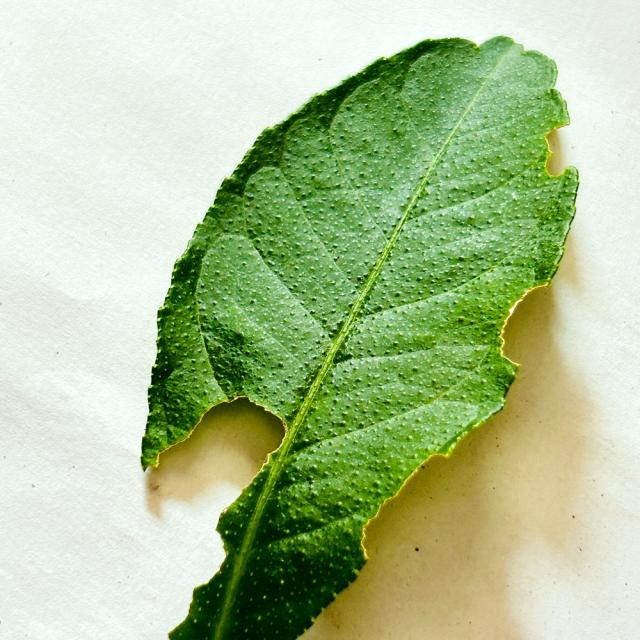Deficiency Leaf: (145, 404, 285, 639), (362, 455, 449, 559), (503, 287, 554, 366), (546, 125, 575, 176)
Lemon: (141, 36, 578, 639)
